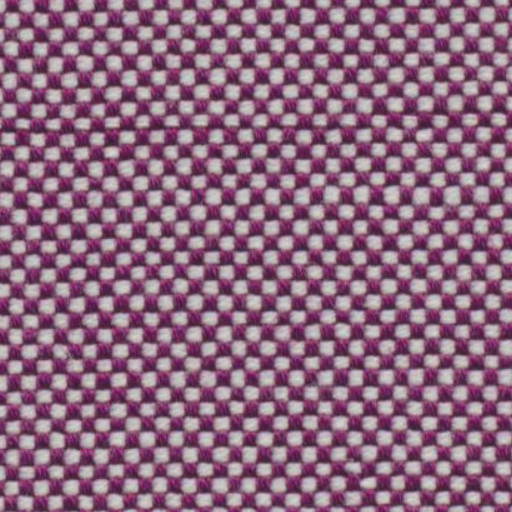TuoSha: (13, 87, 484, 166)
